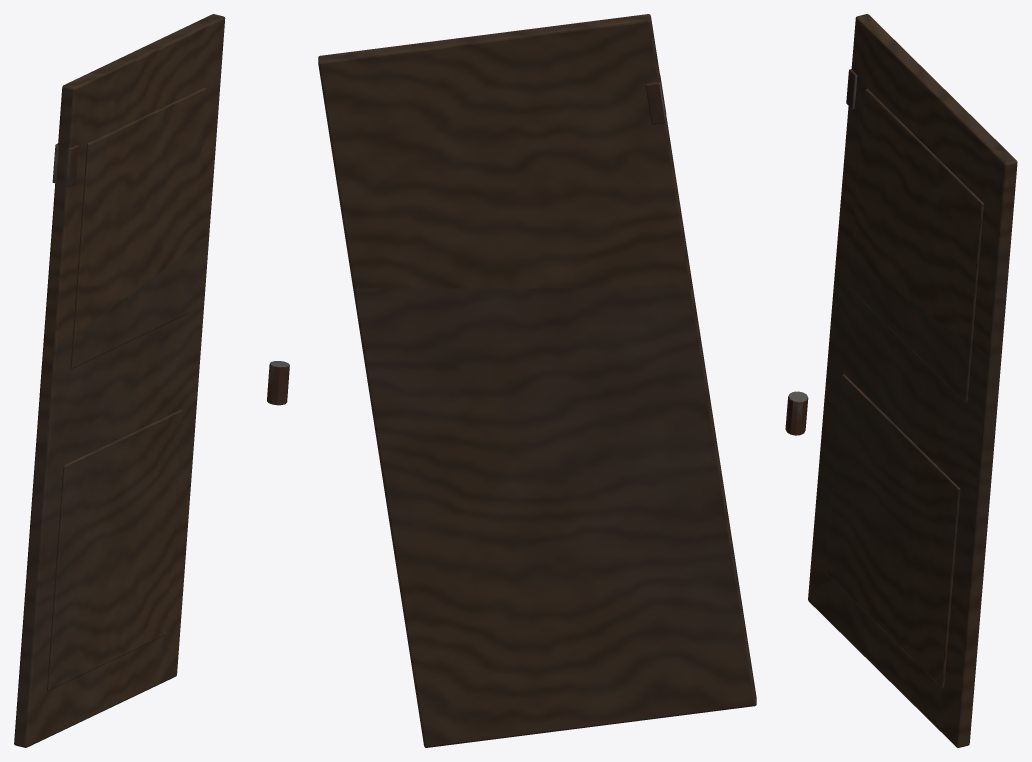
The model's file is BR03_broken_door_hanging_v1.glb.
The picture shows the model from 3 angles, left to right: view 1: azimuth 30°, elevation 25°; view 2: azimuth 150°, elevation 25°; view 3: azimuth 270°, elevation 25°; orthographic projection. The views are drawn at different scales.
Visible parts, largest first — view 1: BR03_broken_door_hanging_v1; view 2: BR03_broken_door_hanging_v1; view 3: BR03_broken_door_hanging_v1.
Boxes of the visible parts, x1,y1,x2,y2 form: BR03_broken_door_hanging_v1: [14, 14, 289, 747]; BR03_broken_door_hanging_v1: [318, 14, 756, 747]; BR03_broken_door_hanging_v1: [785, 14, 1017, 747].
Bounding box in the file's own units: 1.06 × 2.2 × 0.7033.
2 materials, 2 textured.
